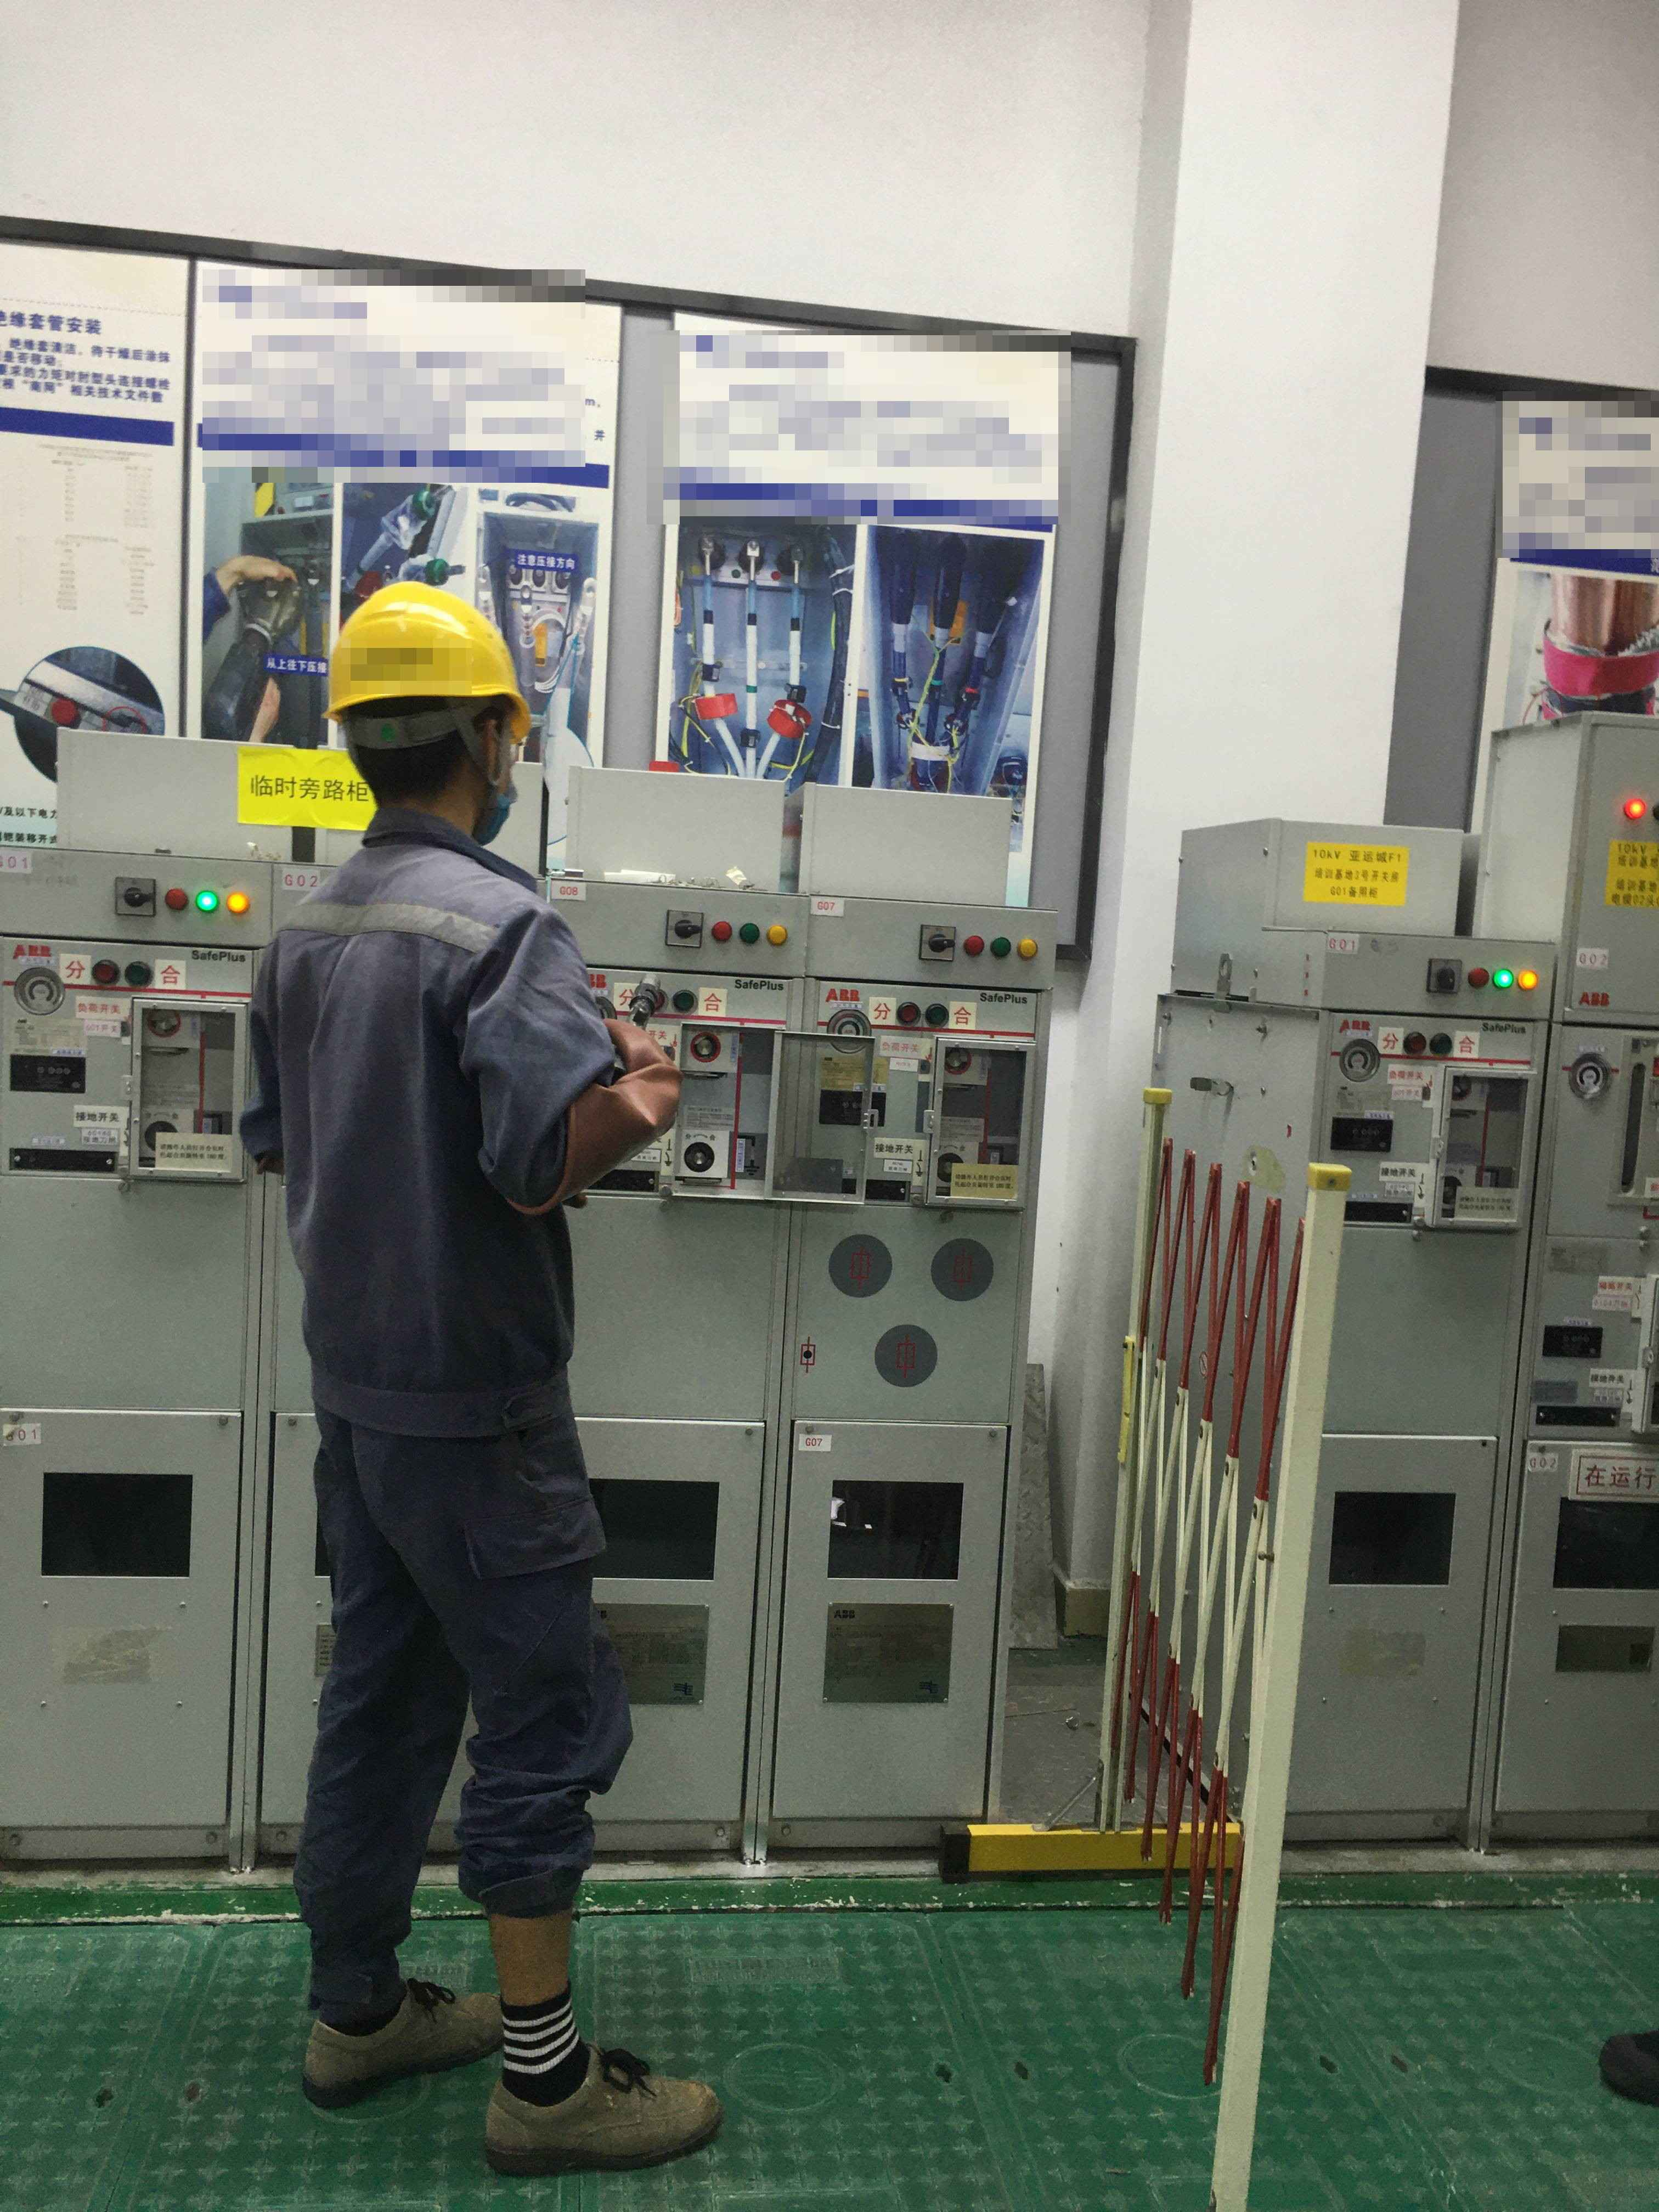downsuit: (296, 1426, 634, 2041)
upsuit: (235, 805, 619, 1420)
wrongbottom: (469, 1876, 591, 2050)
